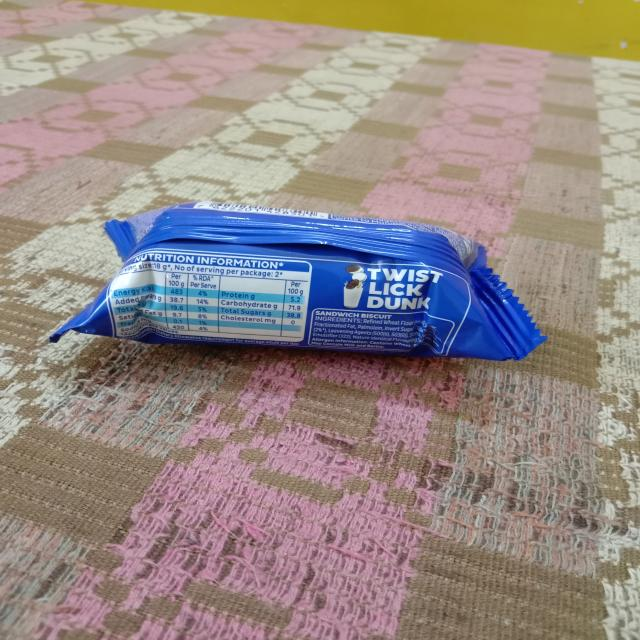oreo biscuit: (46, 196, 548, 382)
